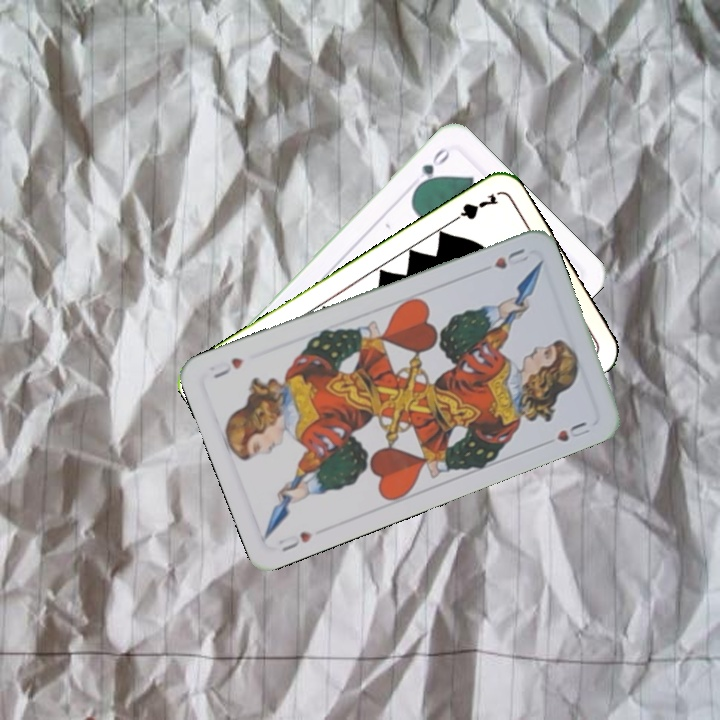G7: (445, 189, 501, 227)
GO: (410, 143, 453, 193)
HU: (490, 244, 531, 272), (274, 527, 315, 555)
